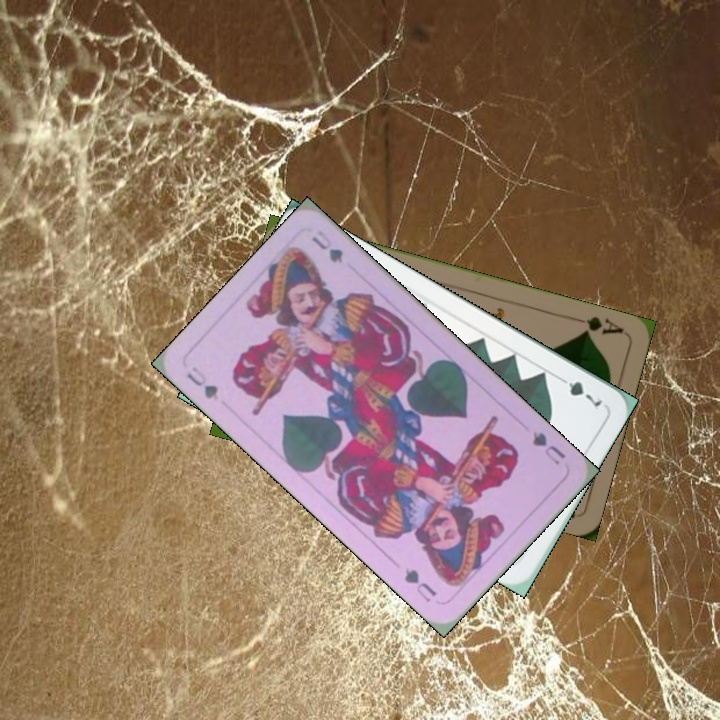G7: (553, 371, 605, 410)
GA: (568, 312, 626, 338)
GU: (528, 428, 569, 468), (183, 362, 221, 403)
